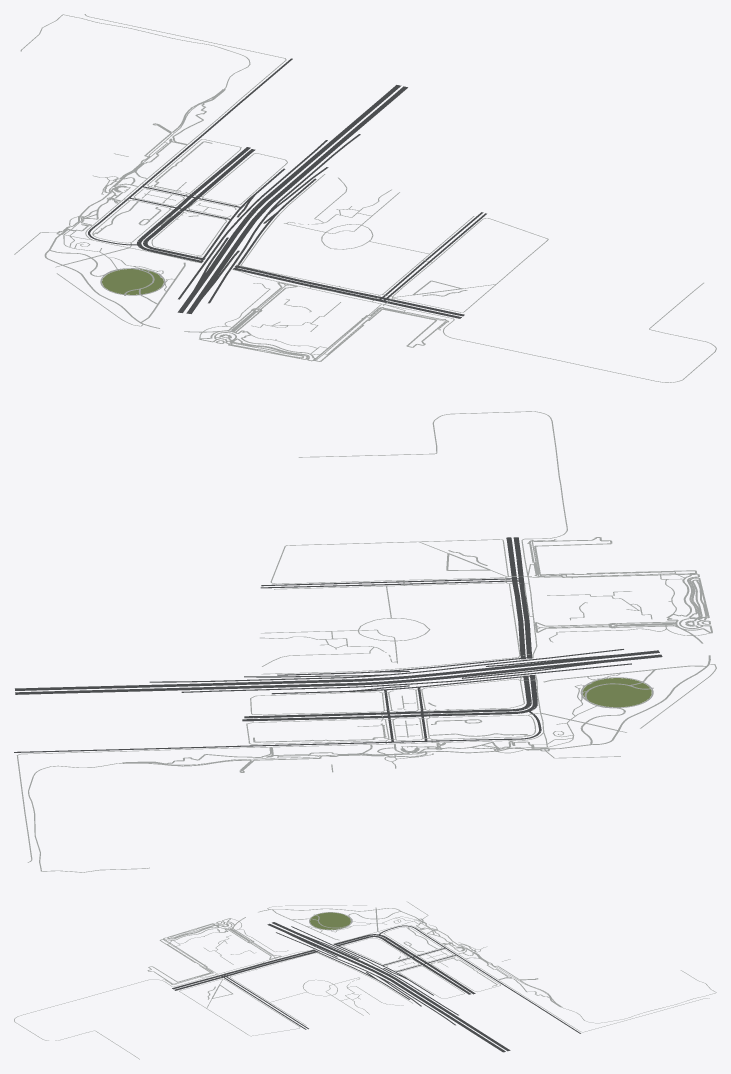
Rendered from Production_Site.glb.
3 renders of one model, top to bottom at view 1: azimuth 30°, elevation 25°; view 2: azimuth 150°, elevation 25°; view 3: azimuth 270°, elevation 25°, orthographic. The views are drawn at different scales.
Parts seen in each view (by area): view 1: Sun_Plaza_Lawn, Mapped_266086989, Mapped_405795844, Mapped_659293976, Mapped_312713398, Mapped_1124150334; view 2: Sun_Plaza_Lawn, Mapped_266086989, Mapped_405795844, Mapped_659293976, Mapped_1124150334, Mapped_312713398, Mapped_888066407, Mapped_192618338, Mapped_1120936394; view 3: Sun_Plaza_Lawn, Mapped_266086989, Mapped_312713398, Mapped_659293976, Mapped_405795844, Mapped_1124150334, Mapped_192618338, Mapped_560742107, Mapped_246568706.
Part boxes in pixels (x1,y1,x2,y2): Sun_Plaza_Lawn: [102, 269, 163, 294]; Mapped_266086989: [250, 85, 401, 212]; Mapped_405795844: [273, 86, 407, 198]; Mapped_659293976: [104, 89, 225, 193]; Mapped_312713398: [333, 282, 716, 382]; Mapped_1124150334: [313, 307, 448, 361]; Sun_Plaza_Lawn: [582, 678, 651, 707]; Mapped_266086989: [15, 681, 390, 694]; Mapped_405795844: [15, 679, 345, 690]; Mapped_659293976: [122, 747, 427, 772]; Mapped_1124150334: [527, 537, 697, 577]; Mapped_312713398: [298, 411, 567, 603]; Mapped_888066407: [409, 652, 644, 678]; Mapped_192618338: [28, 752, 425, 872]; Mapped_1120936394: [409, 657, 636, 681]; Sun_Plaza_Lawn: [310, 912, 350, 929]; Mapped_266086989: [384, 973, 510, 1051]; Mapped_312713398: [14, 966, 247, 1059]; Mapped_659293976: [458, 944, 561, 1007]; Mapped_405795844: [395, 983, 505, 1052]; Mapped_1124150334: [147, 939, 213, 984]; Mapped_192618338: [459, 945, 716, 1023]; Mapped_560742107: [456, 952, 709, 1032]; Mapped_246568706: [179, 979, 300, 1036].
Size of the model in its own units: 1229 by 0.08 by 2309.
